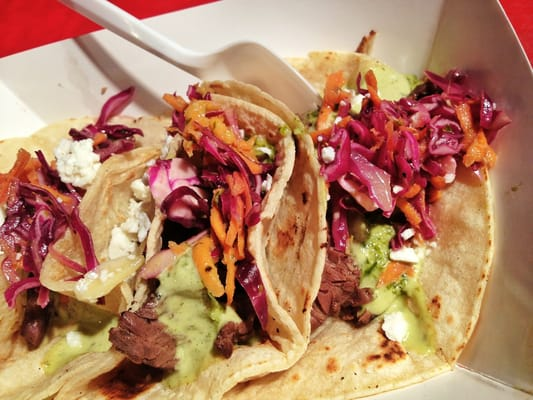salad: (54, 0, 321, 112)
